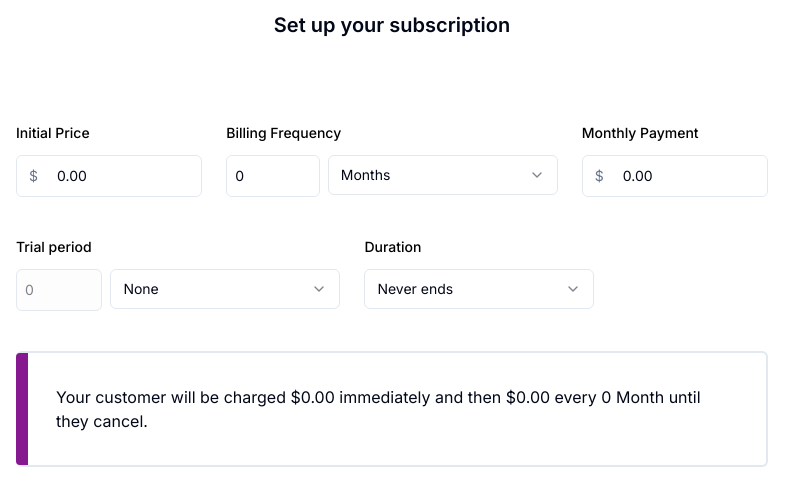
Test: Billing › Billing Frequency › should show correct value
Step 1. Click the dropdown with test id "billingFrequency" → (443, 175), box top-left (328, 155), bottom-right (558, 195)
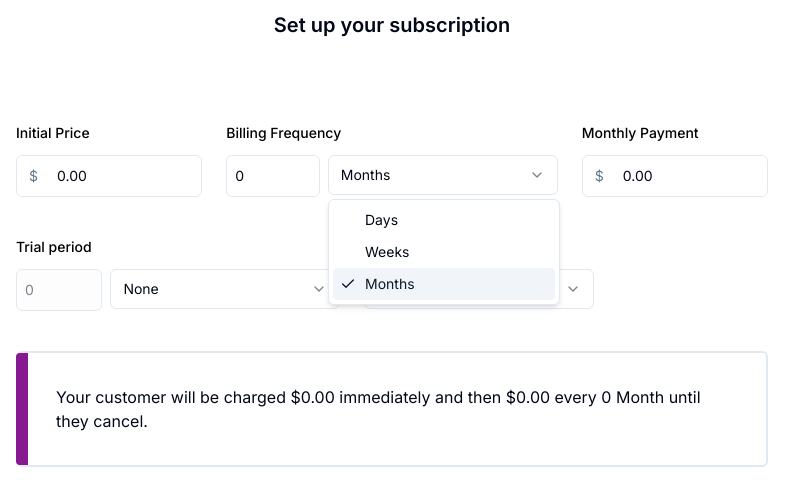
Step 2. Click the option with test id "billingFrequency_Days" → (382, 220), box top-left (365, 211), bottom-right (398, 228)
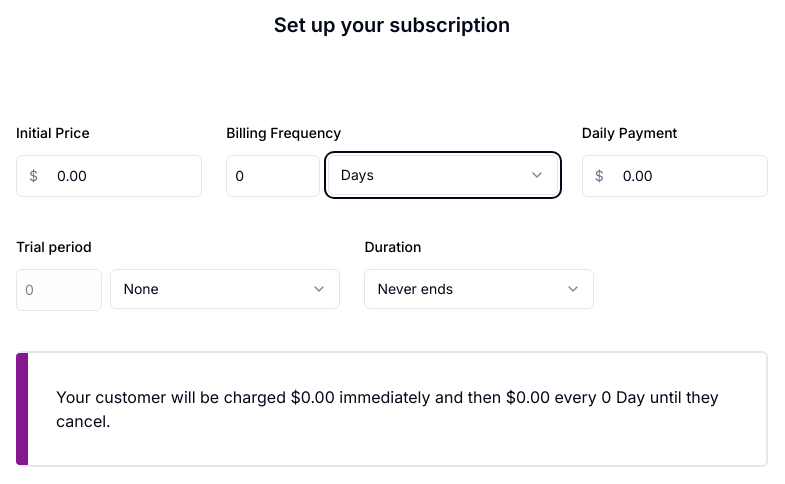
Check: the dropdown "Days" is shown
Step 3. Click the dropdown with test id "billingFrequency" → (443, 175), box top-left (328, 155), bottom-right (558, 195)
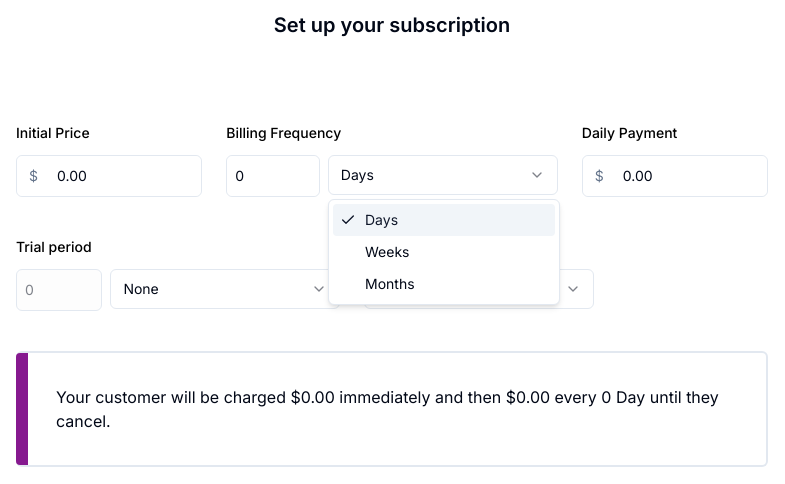
Step 4. Click the option with test id "billingFrequency_Weeks" → (388, 252), box top-left (365, 243), bottom-right (410, 260)
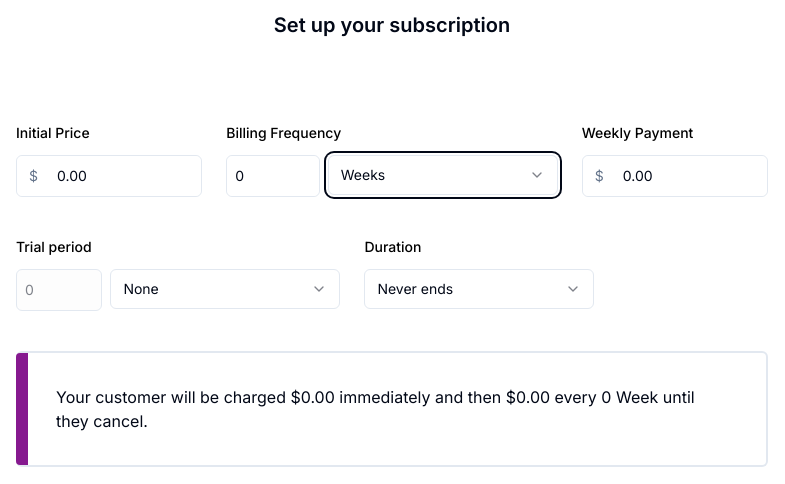
Check: the dropdown "Weeks" is shown
Step 5. Click the dropdown with test id "billingFrequency" → (443, 175), box top-left (328, 155), bottom-right (558, 195)
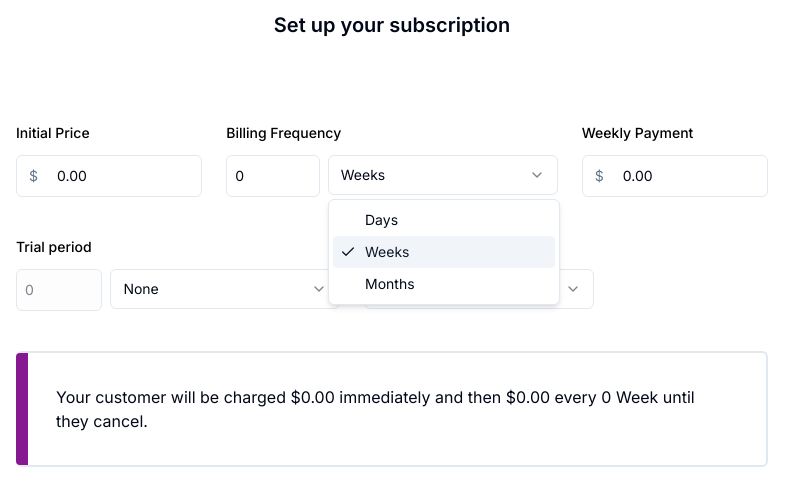
Step 6. Click the option with test id "billingFrequency_Months" → (390, 284), box top-left (365, 275), bottom-right (415, 292)
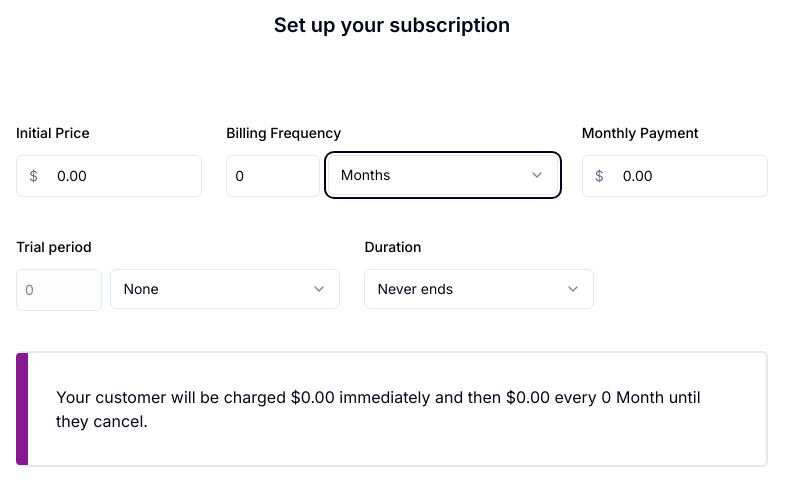
Check: the dropdown "Months" is shown, box top-left (328, 155), bottom-right (558, 195)
